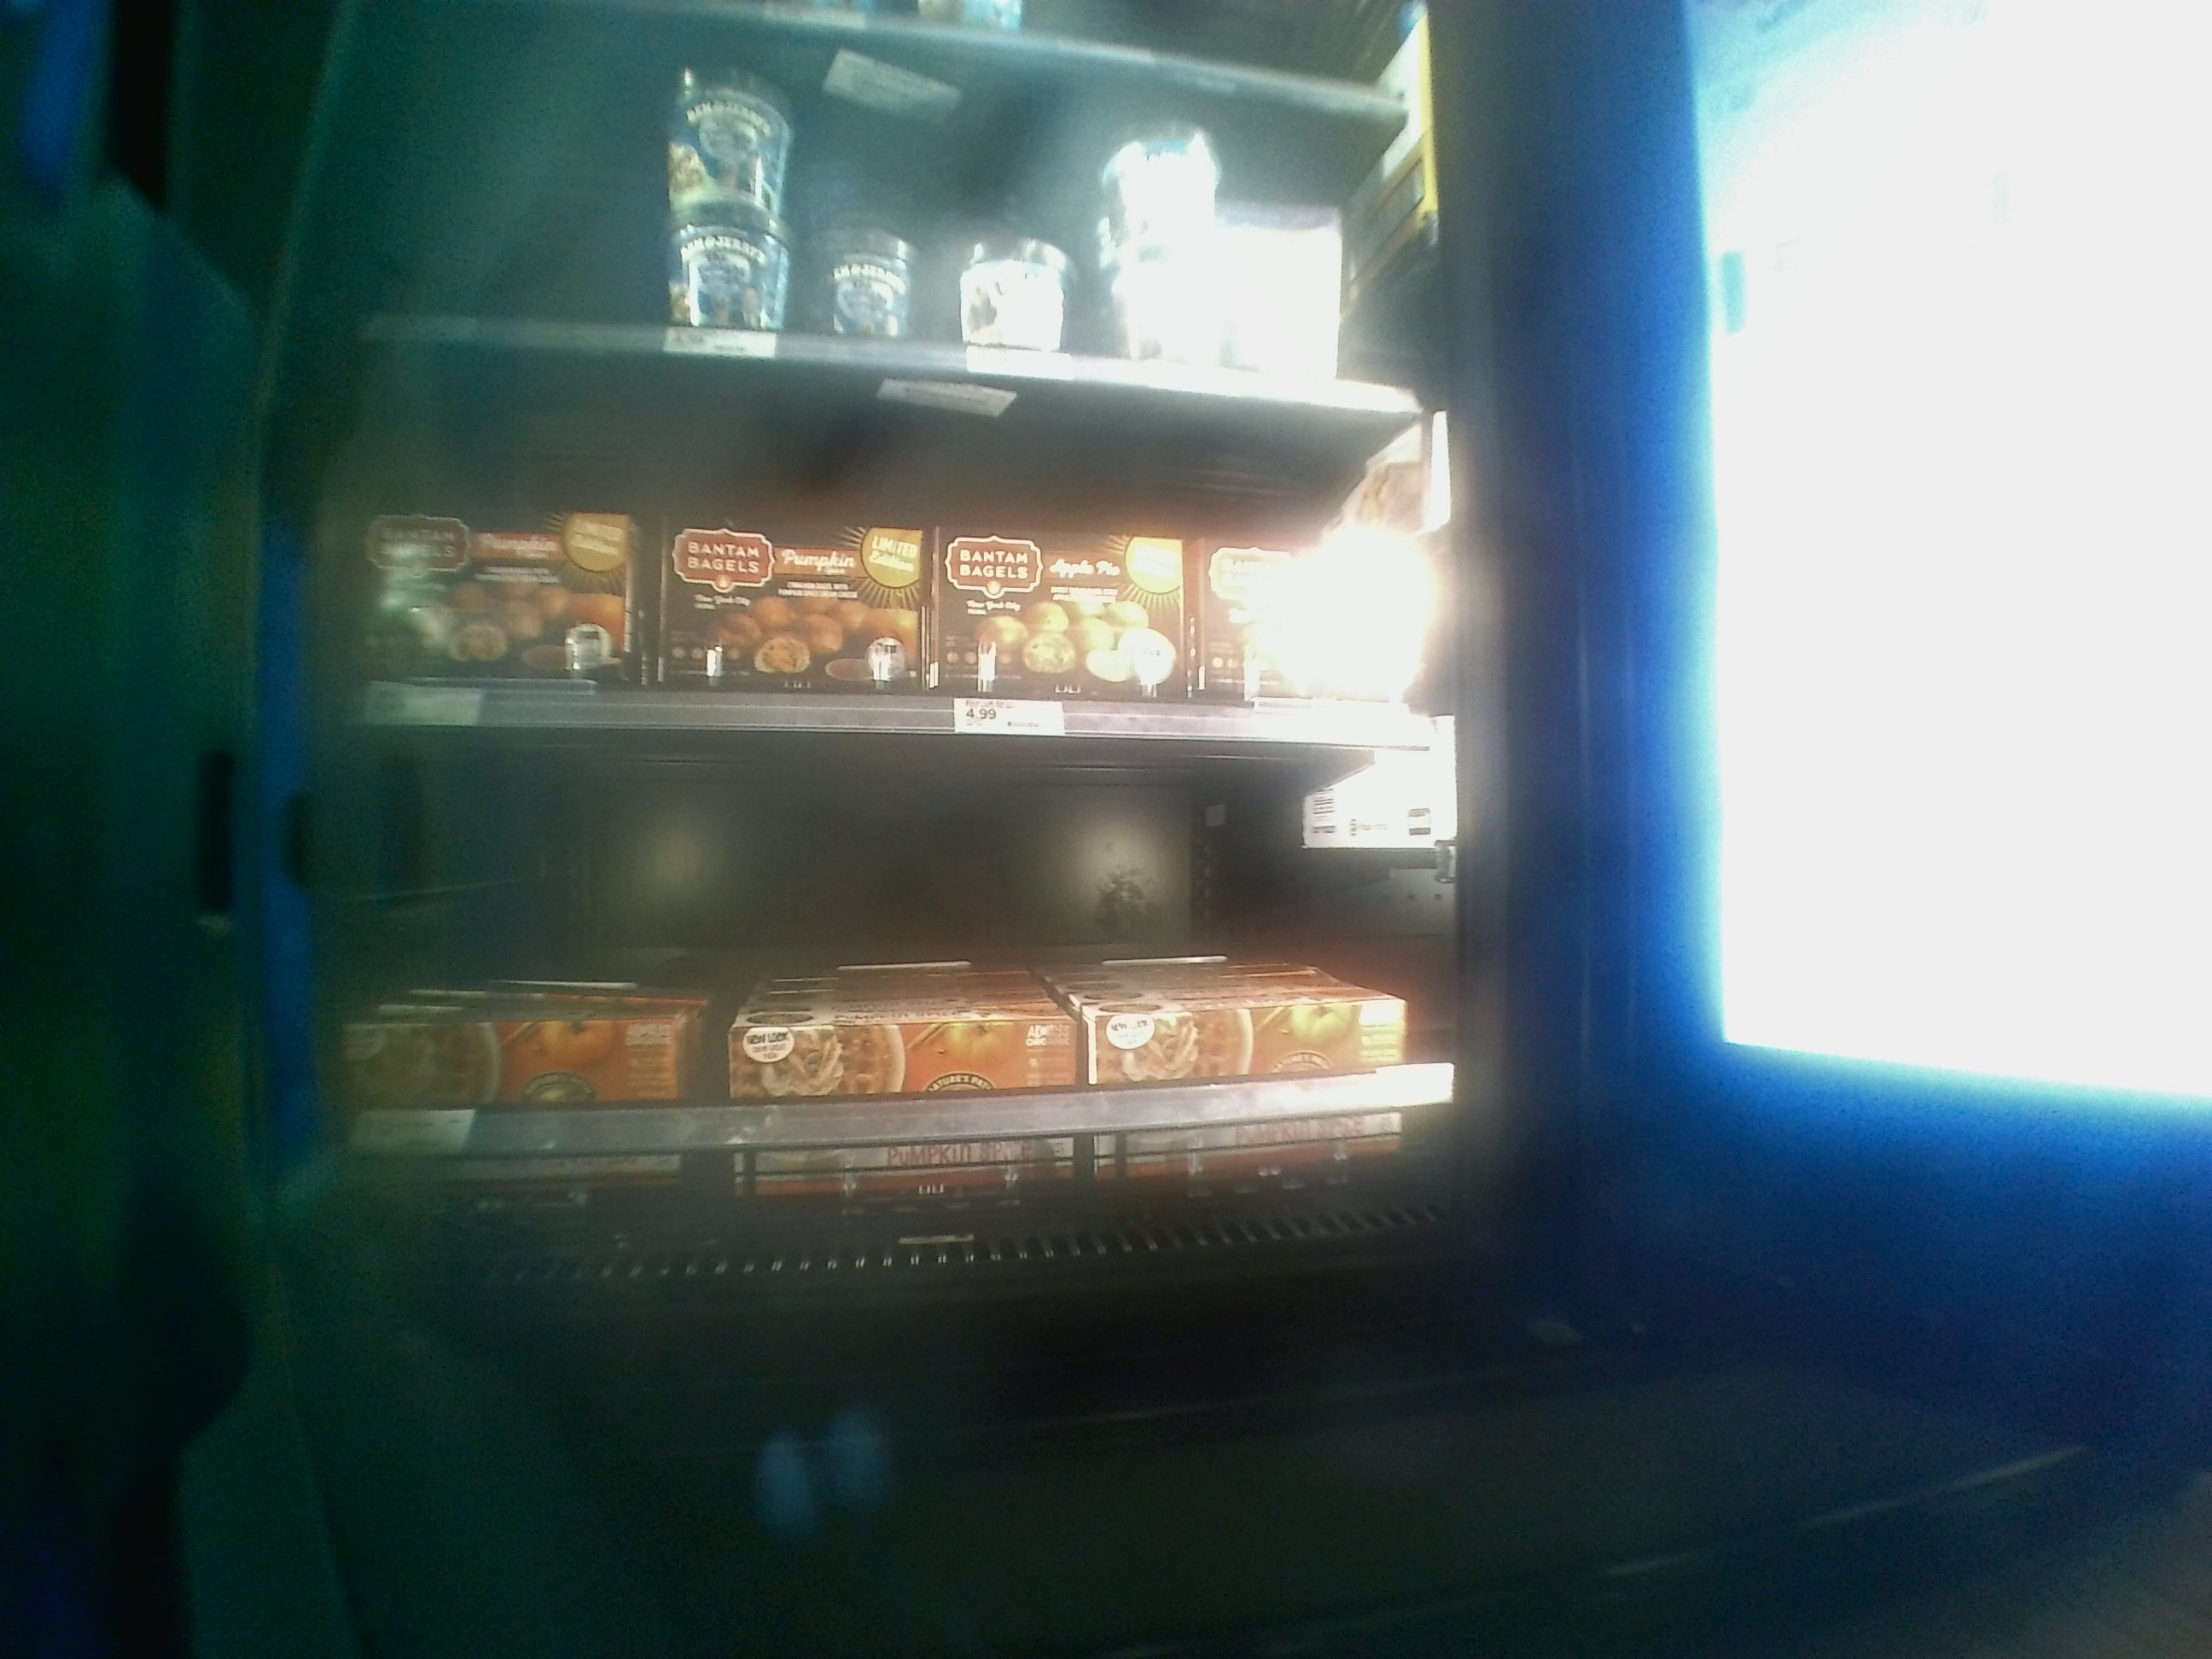shelf: (286, 723, 1480, 1310), (314, 333, 1474, 749)
